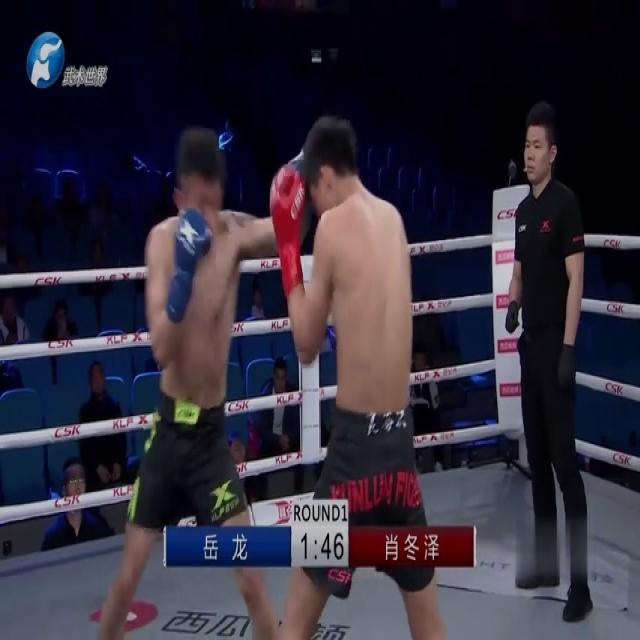fight: (90, 102, 418, 638)
non-fight: (492, 96, 603, 624)
